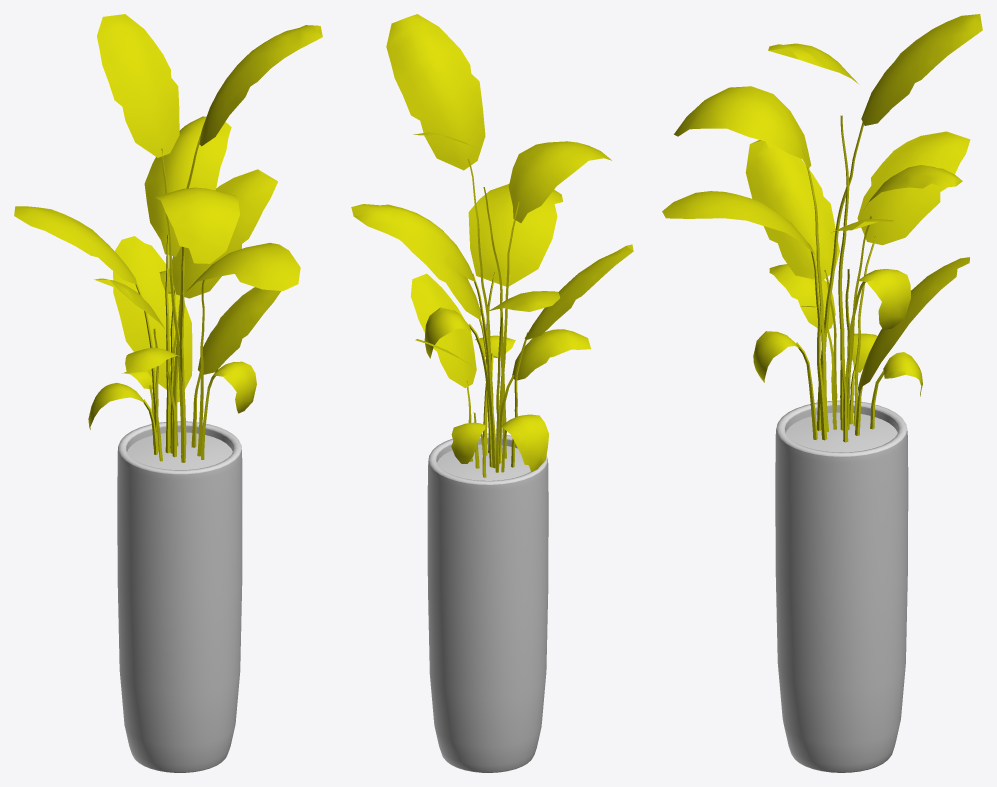
File: ficus_1.glb
3 renders of one model, left to right at view 1: azimuth 30°, elevation 25°; view 2: azimuth 150°, elevation 25°; view 3: azimuth 270°, elevation 25°, orthographic. The views are drawn at different scales.
Visible parts, largest first — view 1: plant.001, pot.001, ground.001; view 2: plant.001, pot.001, ground.001; view 3: plant.001, pot.001, ground.001.
Boxes of the visible parts, left/top/right/bottom form: plant.001: left=14, top=14, right=322, bottom=462; pot.001: left=117, top=421, right=242, bottom=772; ground.001: left=127, top=432, right=232, bottom=469; plant.001: left=351, top=14, right=633, bottom=477; pot.001: left=427, top=433, right=548, bottom=772; ground.001: left=437, top=444, right=530, bottom=480; plant.001: left=662, top=14, right=982, bottom=442; pot.001: left=775, top=400, right=908, bottom=772; ground.001: left=786, top=412, right=897, bottom=452.
Bounding box in the file's own units: 0.4806 × 1.38 × 0.5275.
